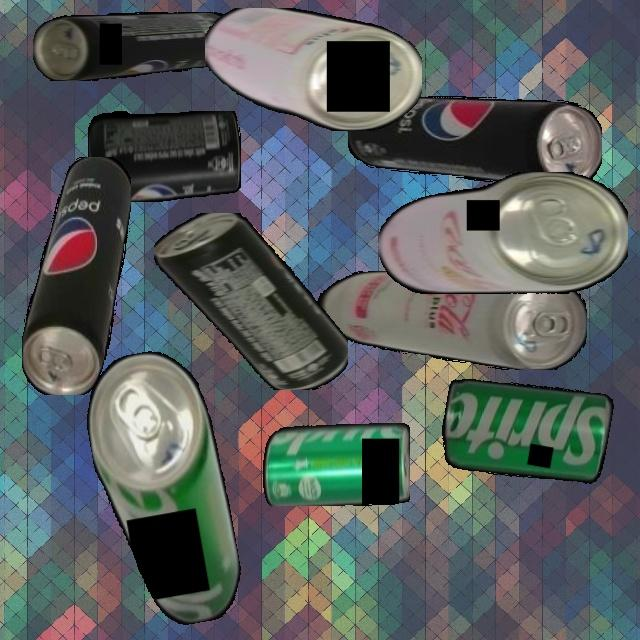debris: (77, 343, 248, 635), (153, 213, 348, 390), (378, 172, 628, 294), (311, 271, 587, 370), (204, 8, 422, 131), (21, 156, 131, 395), (347, 96, 602, 187), (436, 368, 615, 493), (87, 110, 241, 202), (33, 11, 232, 81), (262, 422, 410, 506)
